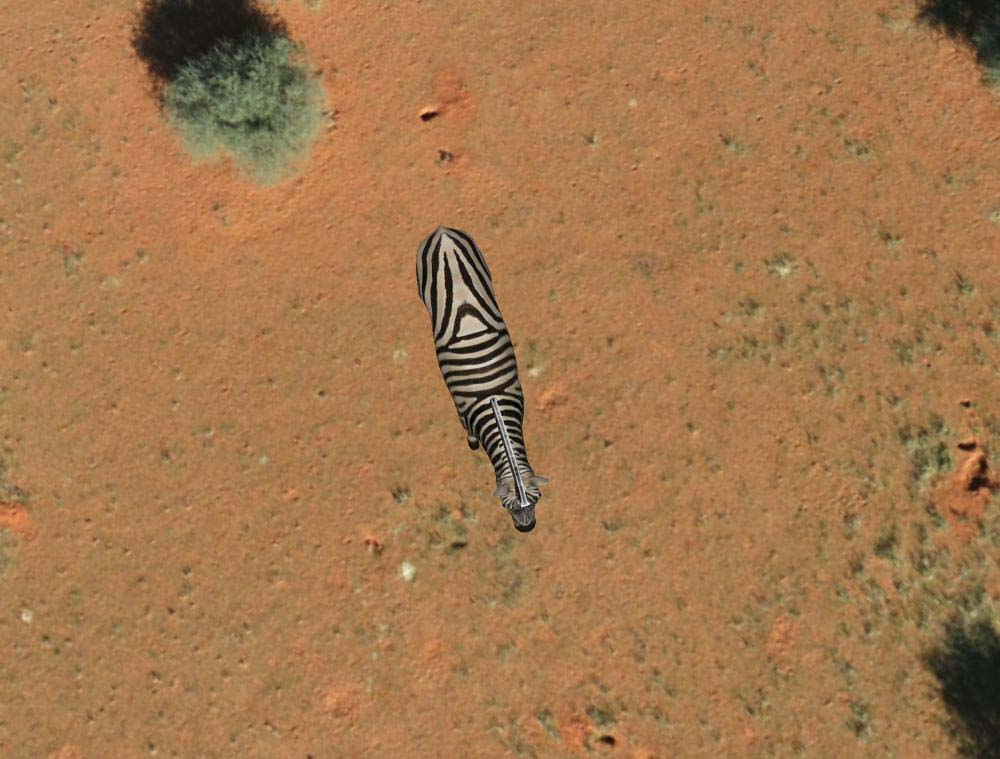zebra: (412, 221, 548, 535)
